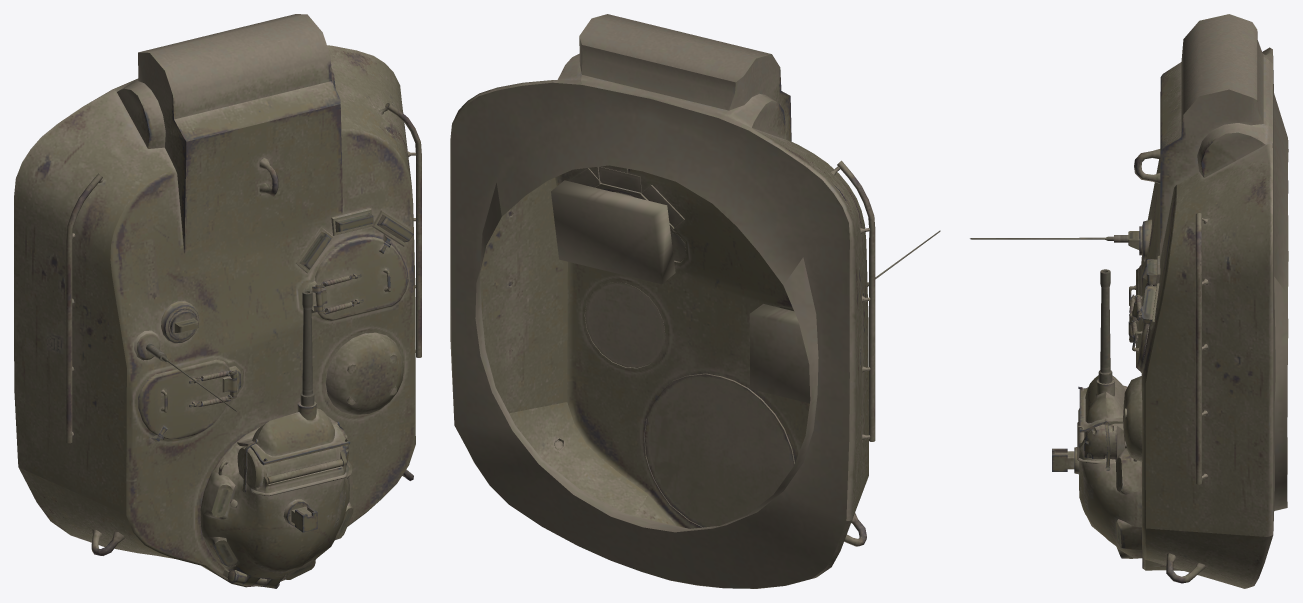
Rendered from Turret_01.glb.
The picture shows the model from 3 angles, left to right: view 1: azimuth 30°, elevation 25°; view 2: azimuth 150°, elevation 25°; view 3: azimuth 270°, elevation 25°; orthographic projection. The views are drawn at different scales.
Visible parts, largest first — view 1: set_0_group_0; view 2: set_0_group_0; view 3: set_0_group_0.
Boxes of the visible parts, <box> form: set_0_group_0: <box>14,14,421,588</box>; set_0_group_0: <box>450,14,940,588</box>; set_0_group_0: <box>970,14,1288,588</box>.
Size of the model in its own units: 2.85 by 3.64 by 2.06.
1 material, 1 textured.
